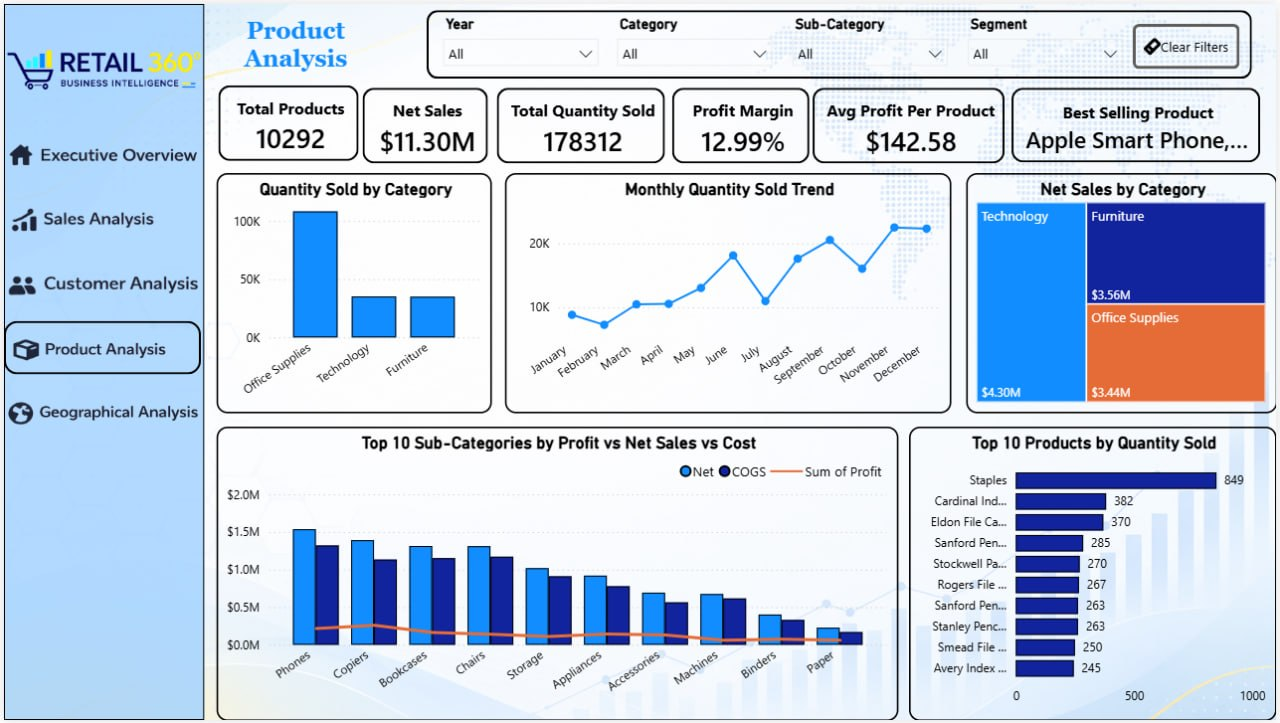

Layout of this report page (visuals, bound fields, positions):
{"tool":"powerbi","page":{"name":"Product Analysis","canvas":[1280,720],"ordinal":3},"visuals":[{"type":"shape","box":[0,0,201.3,720],"z":0},{"type":"shape","box":[0,318.7,198,53.6],"z":1000},{"type":"image","box":[0,13.7,201.3,105.8],"z":2000},{"type":"image","box":[-0.3,120.5,201.3,64.7],"z":3000},{"type":"image","box":[-0.3,185.1,201.3,64.7],"z":4000},{"type":"image","box":[-0.3,249.8,201.3,64.7],"z":5000},{"type":"image","box":[-0.3,379.1,201.3,64.7],"z":6000},{"type":"image","box":[-0.3,314.4,201.3,64.7],"z":7000},{"type":"shape","box":[425.5,6.8,829.8,68.9],"z":8000},{"type":"slicer","fields":{"Values":["Product.Category"]},"box":[606.7,6.8,176.4,68.9],"z":9000},{"type":"slicer","fields":{"Values":["DateTable.Year"]},"box":[430.7,6.8,176.3,57.3],"z":10000},{"type":"slicer","fields":{"Values":["Product.Sub-Category"]},"box":[782.7,6.8,176.4,68.9],"z":11000},{"type":"slicer","fields":{"Values":["Customer.Segment"]},"box":[958.7,6.8,176.4,68.9],"z":12000},{"type":"actionButton","box":[1134.7,20.5,107.5,45.4],"z":13000},{"type":"cardVisual","fields":{"Data":["Measure_Table.Net"]},"box":[344.4,67.2,160,110.9],"z":14000},{"type":"cardVisual","fields":{"Data":["Measure_Table.Total_Quantity"]},"box":[478.7,67.2,203,110],"z":15000},{"type":"cardVisual","fields":{"Data":["Min(Product.Product Name)"]},"box":[996.1,67.2,284,109.2],"z":16000},{"type":"cardVisual","fields":{"Data":["Measure_Table.Avg Profit Per Product"]},"box":[796.2,67.2,227,110],"z":17000},{"type":"cardVisual","fields":{"Data":["Measure_Table.Profit Margin"]},"box":[655.1,67.2,172,110],"z":18000},{"type":"cardVisual","fields":{"Data":["Measure_Table.Total Products"]},"box":[198.2,65.5,175,110],"z":19000},{"type":"lineChart","title":"Monthly Quantity Sold Trend","fields":{"Category":["DateTable.Month Name"],"Y":["Measure_Table.Total_Quantity"]},"box":[503.9,169.7,448.5,241.9],"z":20000},{"type":"lineClusteredColumnComboChart","title":"Top 10 Sub-Categories by Profit vs Net Sales vs Cost","fields":{"Category":["Product.Sub-Category"],"Y":["Measure_Table.Net","Measure_Table.COGS"],"Y2":["Sum(Sales.Profit)"]},"box":[213.3,425,685.4,295.6],"z":21000},{"type":"treemap","title":"Net Sales by Category","fields":{"Group":["Product.Category"],"Values":["Measure_Table.Net"]},"box":[967.6,169.7,312.4,241.9],"z":22000},{"type":"lineClusteredColumnComboChart","title":"Quantity Sold by Category","fields":{"Category":["Product.Category"],"Y":["Measure_Table.Total_Quantity"]},"box":[213.3,169.7,277.2,241.9],"z":23000},{"type":"clusteredBarChart","title":"Top 10 Products by Quantity Sold","fields":{"Category":["Product.Product Name"],"Y":["Sum(Sales.Quantity)"]},"box":[910.4,425,369.6,295.6],"z":24000},{"type":"textbox","box":[216.6,7,154.3,73.5],"z":25000}]}

Visuals, with their boxes in screenshot pixels (x1, y1, x2, y2), scaled from the page's 1280x720 canvas onto the 1280x723 screenshot:
shape: 0/0/201/722
shape: 0/320/198/374
image: 0/14/201/120
image: 0/121/201/186
image: 0/186/201/251
image: 0/251/201/316
image: 0/381/201/446
image: 0/316/201/381
shape: 426/7/1255/76
slicer - Product.Category: 607/7/783/76
slicer - DateTable.Year: 431/7/607/64
slicer - Product.Sub-Category: 783/7/959/76
slicer - Customer.Segment: 959/7/1135/76
actionButton: 1135/21/1242/66
cardVisual - Measure_Table.Net: 344/67/504/179
cardVisual - Measure_Table.Total_Quantity: 479/67/682/178
cardVisual - Min(Product.Product Name): 996/67/1279/177
cardVisual - Measure_Table.Avg Profit Per Product: 796/67/1023/178
cardVisual - Measure_Table.Profit Margin: 655/67/827/178
cardVisual - Measure_Table.Total Products: 198/66/373/176
"Monthly Quantity Sold Trend" lineChart: 504/170/952/413
"Top 10 Sub-Categories by Profit vs Net Sales vs Cost" lineClusteredColumnComboChart: 213/427/899/722
"Net Sales by Category" treemap: 968/170/1279/413
"Quantity Sold by Category" lineClusteredColumnComboChart: 213/170/490/413
"Top 10 Products by Quantity Sold" clusteredBarChart: 910/427/1279/722
textbox: 217/7/371/81
